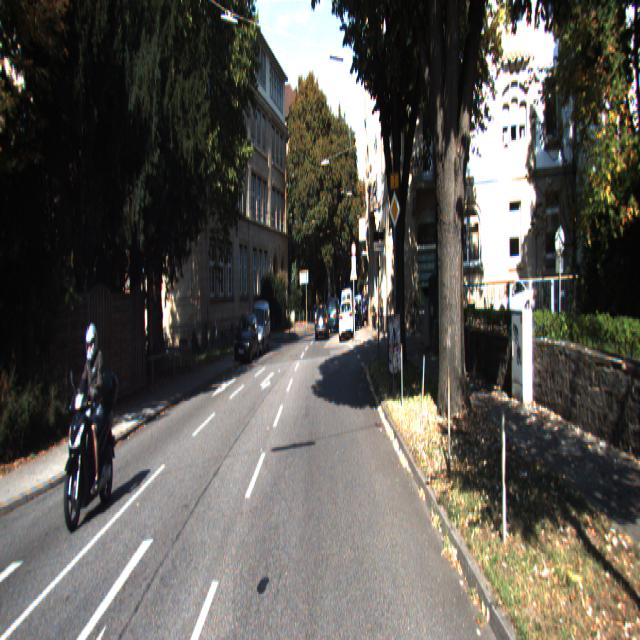Car: (58, 319, 125, 533), (488, 279, 532, 329), (232, 313, 260, 368), (247, 299, 271, 358), (339, 298, 353, 342), (315, 303, 329, 342)
